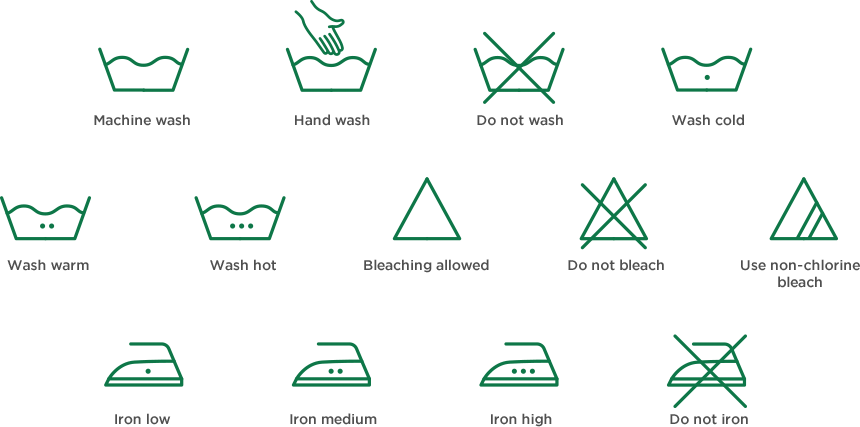do_not_bleach: (576, 177, 648, 250)
do_not_iron: (668, 330, 746, 406)
do_not_wash: (473, 30, 566, 105)
